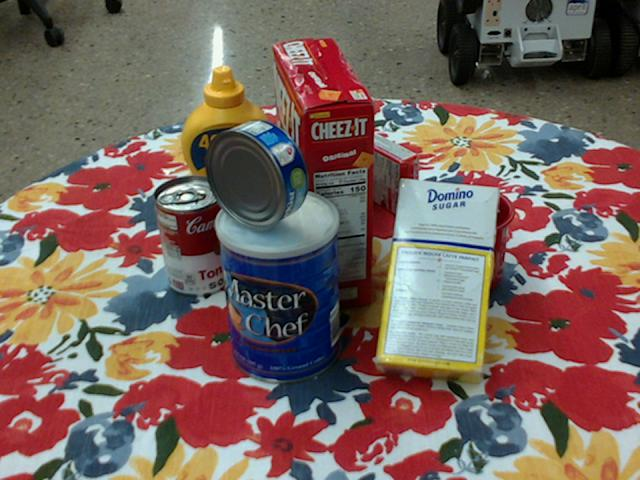cracker_box: (272, 39, 375, 312)
gelatin_box: (351, 128, 418, 217)
large_marker: (294, 77, 319, 127)
master_chef_can: (215, 189, 340, 386)
mug: (398, 184, 513, 296)
mustard_bottle: (180, 66, 278, 243)
potted_meat_can: (260, 121, 353, 211)
sugar_box: (374, 181, 497, 387)
tomato_soup_can: (153, 175, 231, 296)
tuna_fish_can: (205, 120, 309, 231)
